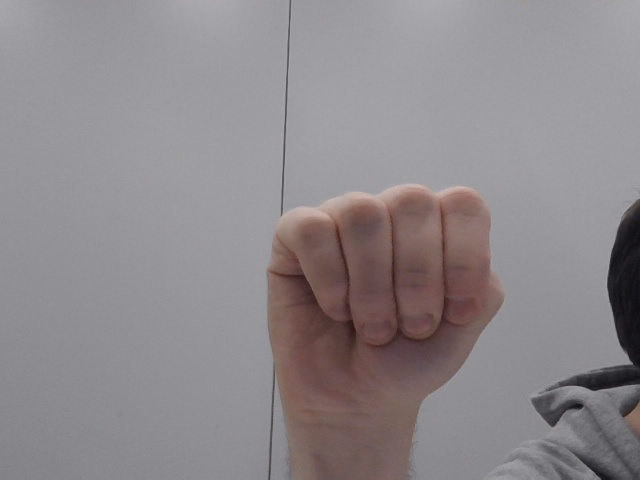down: (255, 168, 527, 436)
